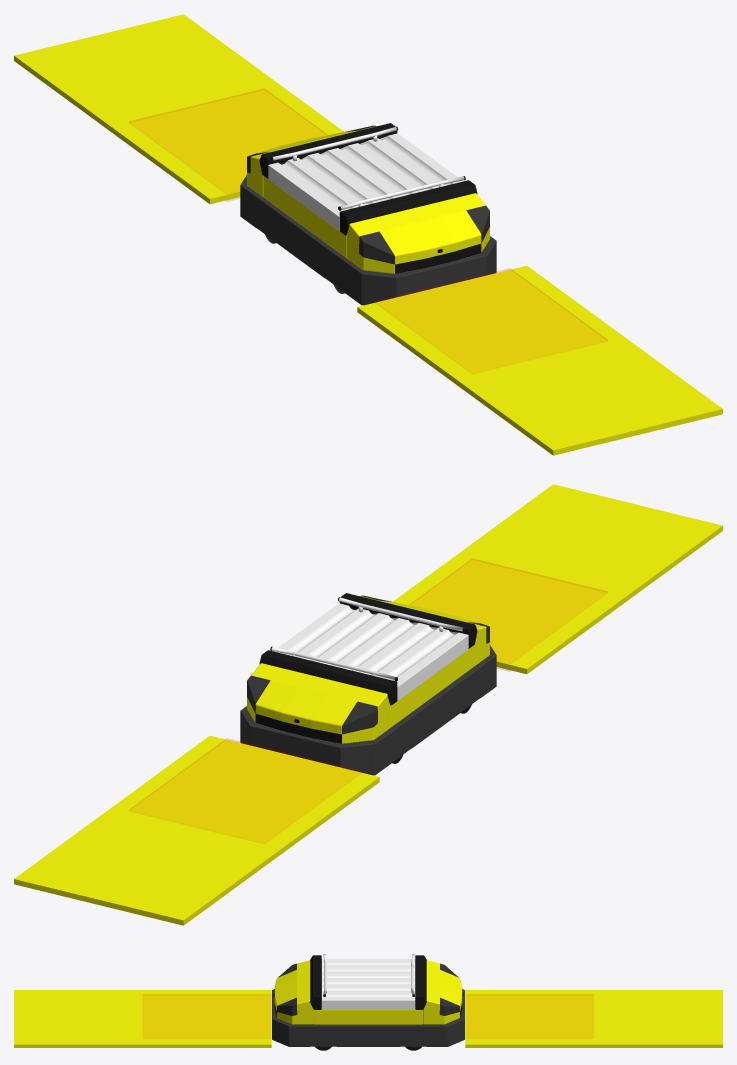
File: agv.fbx
3 views of the same model, one above another, from view 1: azimuth 30°, elevation 25°; view 2: azimuth 150°, elevation 25°; view 3: azimuth 270°, elevation 25° (orthographic). The views are drawn at different scales.
Parts seen in each view (by area): view 1: FrontHazardYellow, RearHazardYellow, LoadingPlatform, Body1, Guard, Cube.005, Cube.001, Cube.006, Body2; view 2: RearHazardYellow, FrontHazardYellow, LoadingPlatform, Body2, Guard, Cube.006, Cube.001, Cube.005, Body1; view 3: FrontHazardYellow, RearHazardYellow, LoadingPlatform, Guard, Body1, Body2, Cube.001, Cube.005, Cube.006.
Boxes of the visible parts, <box> form: FrontHazardYellow: <box>357,265,722,455</box>; RearHazardYellow: <box>14,14,343,204</box>; LoadingPlatform: <box>268,133,463,231</box>; Body1: <box>347,193,489,273</box>; Guard: <box>240,175,496,305</box>; Cube.005: <box>339,180,477,235</box>; Cube.001: <box>263,176,346,257</box>; Cube.006: <box>259,123,397,178</box>; Body2: <box>247,125,377,196</box>; RearHazardYellow: <box>14,735,379,925</box>; FrontHazardYellow: <box>393,484,722,674</box>; LoadingPlatform: <box>274,603,468,701</box>; Body2: <box>247,663,389,743</box>; Guard: <box>240,645,496,775</box>; Cube.006: <box>259,650,397,705</box>; Cube.001: <box>390,646,473,727</box>; Cube.005: <box>339,593,477,648</box>; Body1: <box>359,595,489,666</box>; FrontHazardYellow: <box>14,990,271,1047</box>; RearHazardYellow: <box>465,990,722,1047</box>; LoadingPlatform: <box>321,959,415,1009</box>; Guard: <box>272,989,464,1046</box>; Body1: <box>274,960,313,1024</box>; Body2: <box>423,960,462,1024</box>; Cube.001: <box>313,1009,423,1024</box>; Cube.005: <box>310,955,321,1009</box>; Cube.006: <box>415,955,426,1009</box>.
Bounding box in the file's own units: 1 × 0.4797 × 5.51.
